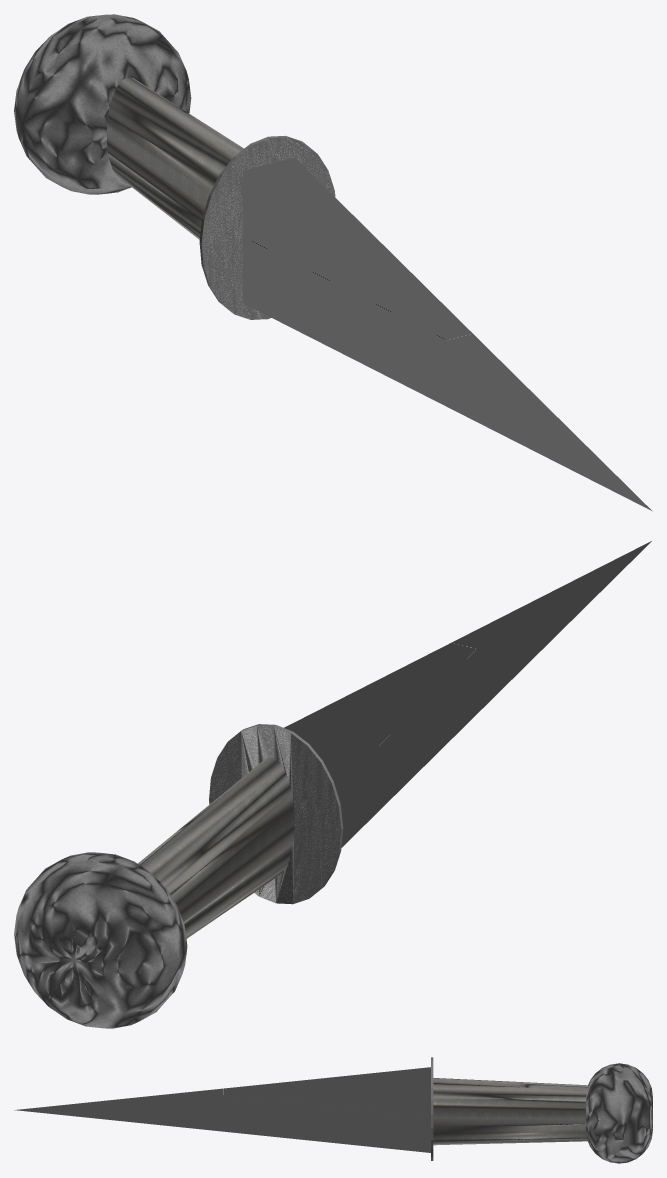
File: model_align.obj
The picture shows the model from 3 angles, top to bottom: view 1: azimuth 30°, elevation 25°; view 2: azimuth 150°, elevation 25°; view 3: azimuth 270°, elevation 25°; orthographic projection. The views are drawn at different scales.
Bounding box in the file's own units: 0.0352 × 0.0378 × 0.2234.
